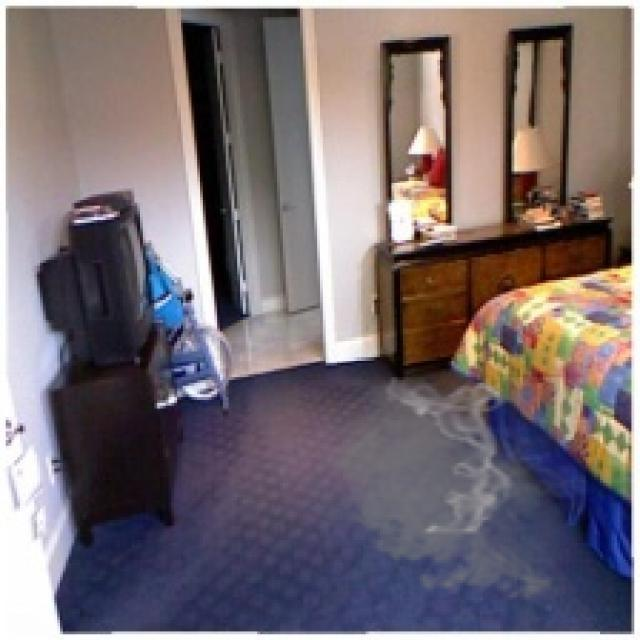Smoke: (314, 374, 586, 606)
